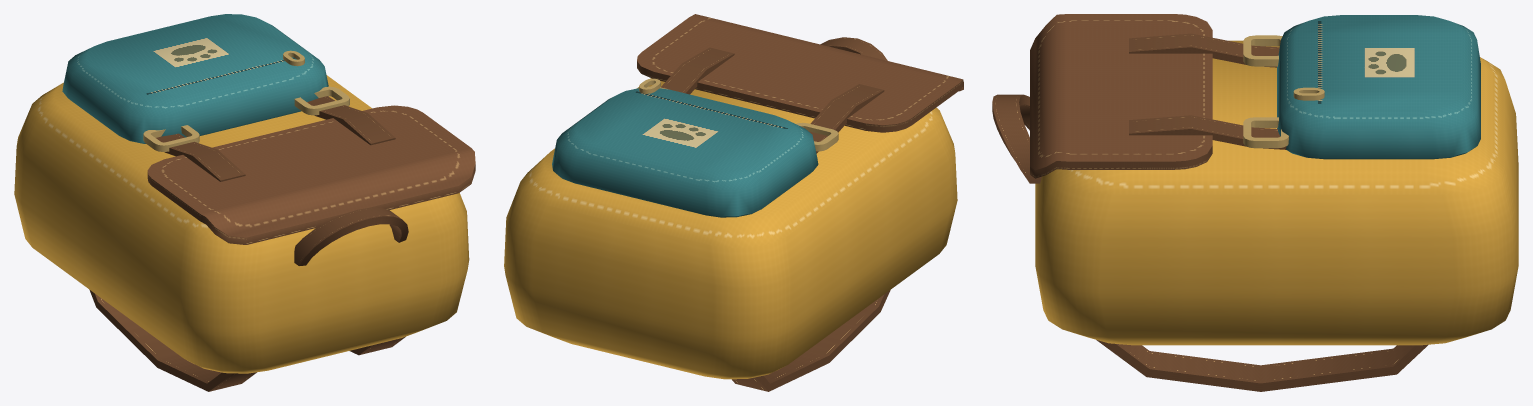
The model's file is KD_Backpack_Everyday.fbx.
The picture shows the model from 3 angles, left to right: view 1: azimuth 30°, elevation 25°; view 2: azimuth 150°, elevation 25°; view 3: azimuth 270°, elevation 25°; orthographic projection. The views are drawn at different scales.
Visible parts, largest first — view 1: KD_Backpack_Everyday; view 2: KD_Backpack_Everyday; view 3: KD_Backpack_Everyday.
Part boxes in pixels (<box>): KD_Backpack_Everyday: <box>14,14,475,391</box>; KD_Backpack_Everyday: <box>504,14,963,391</box>; KD_Backpack_Everyday: <box>992,14,1518,391</box>.
Size of the model in its own units: 0.135 by 0.1177 by 0.196.
1 material, 1 textured.
